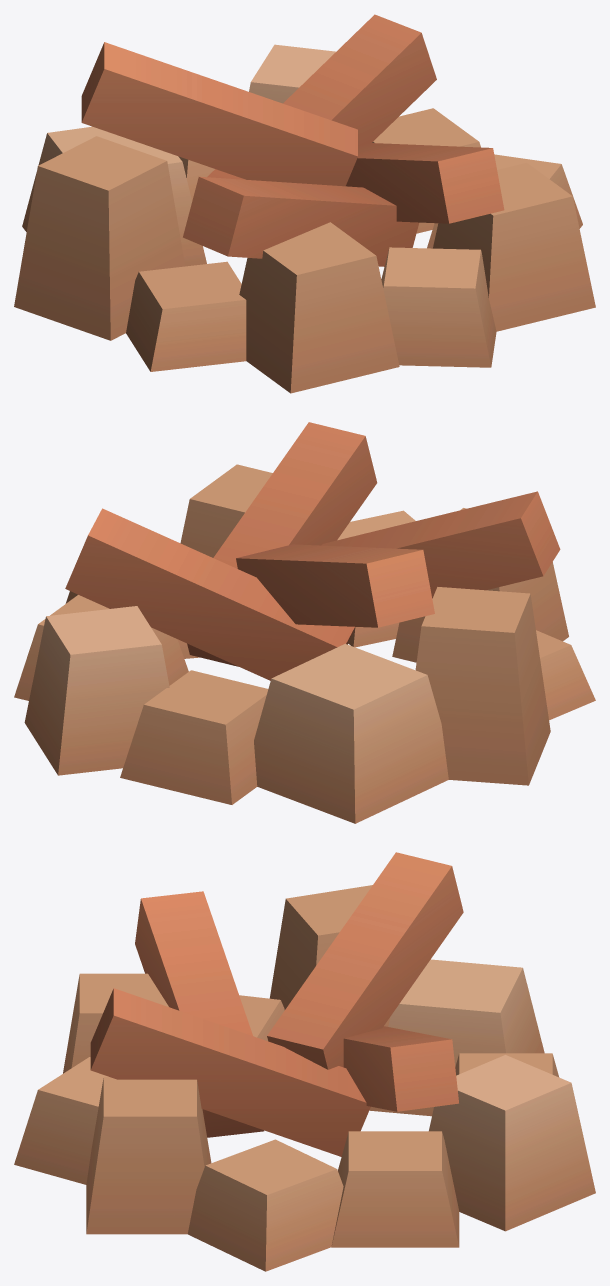
The model's file is campfire.glb.
The picture shows the model from 3 angles, top to bottom: view 1: azimuth 30°, elevation 25°; view 2: azimuth 150°, elevation 25°; view 3: azimuth 270°, elevation 25°; orthographic projection. The views are drawn at different scales.
Visible parts, largest first — view 1: campfire-pit; view 2: campfire-pit; view 3: campfire-pit.
Boxes of the visible parts, bbox=[...] form: campfire-pit: bbox=[14, 14, 595, 393]; campfire-pit: bbox=[14, 422, 595, 823]; campfire-pit: bbox=[14, 852, 595, 1271].
Bounding box in the file's own units: 0.2778 × 0.1091 × 0.2692.
1 material, 1 textured.
